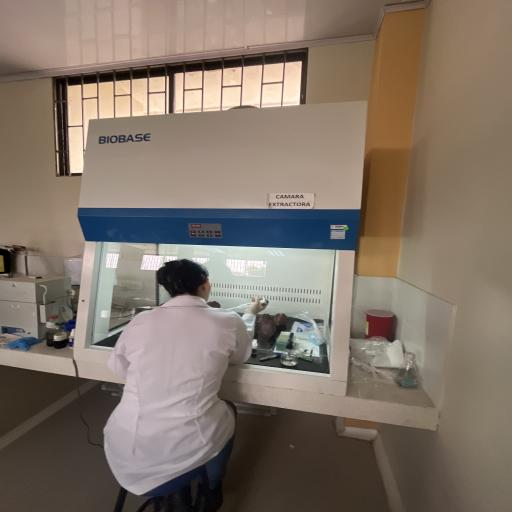Camara_Extractora_Biobase: (71, 88, 378, 407)
